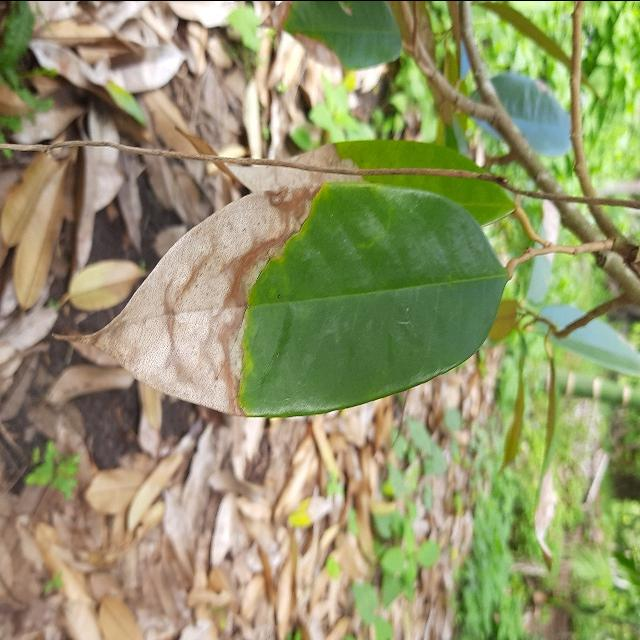Leaf Blight: (45, 131, 523, 421)
